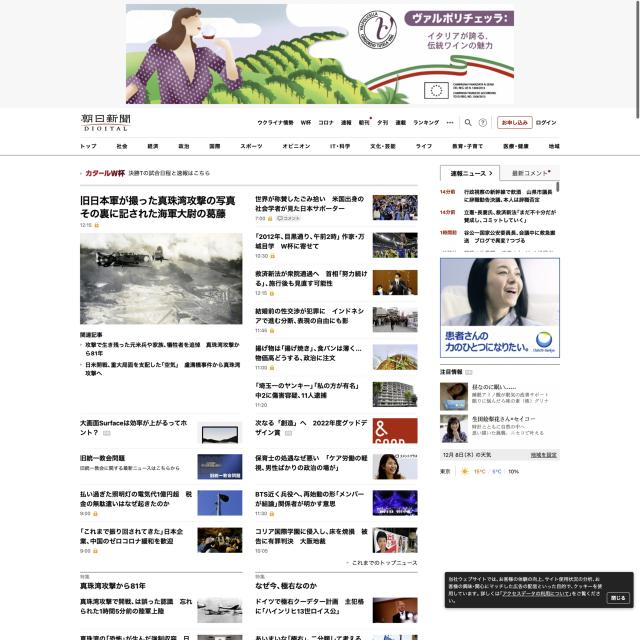logo: (78, 112, 134, 134)
navigation: (76, 140, 566, 154), (256, 116, 442, 130)
